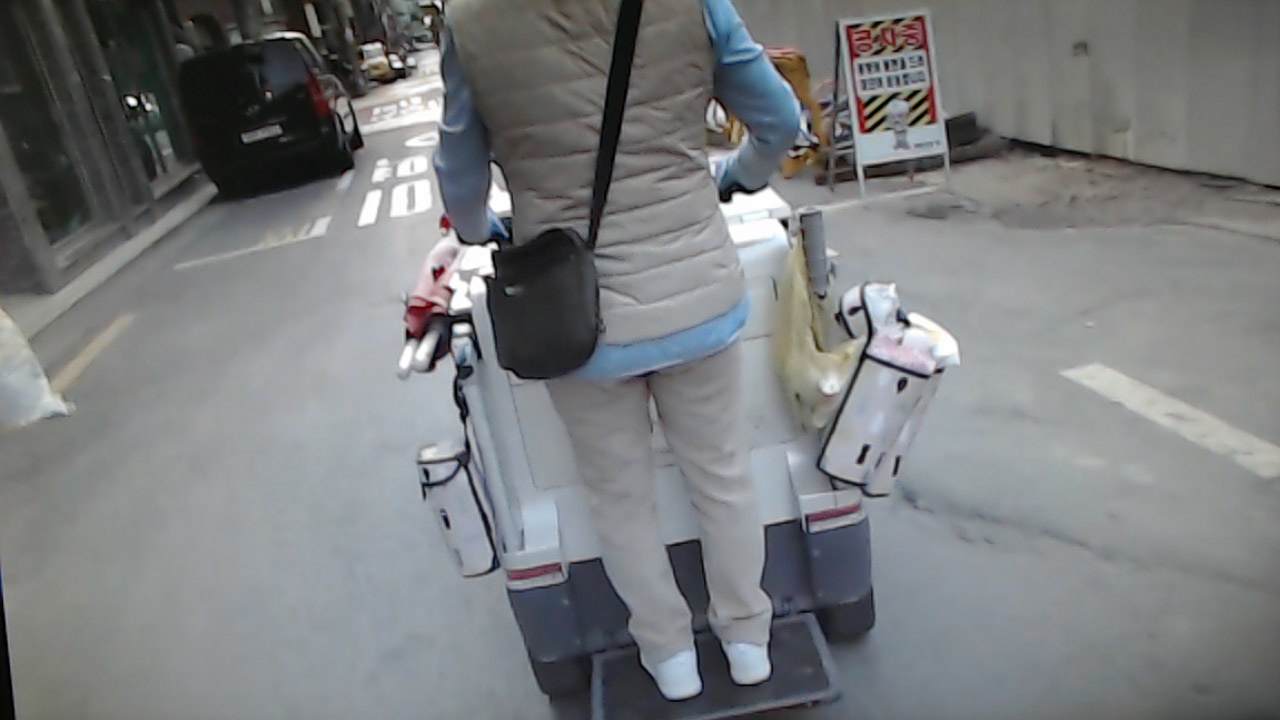Yakurut: (433, 4, 818, 710)
